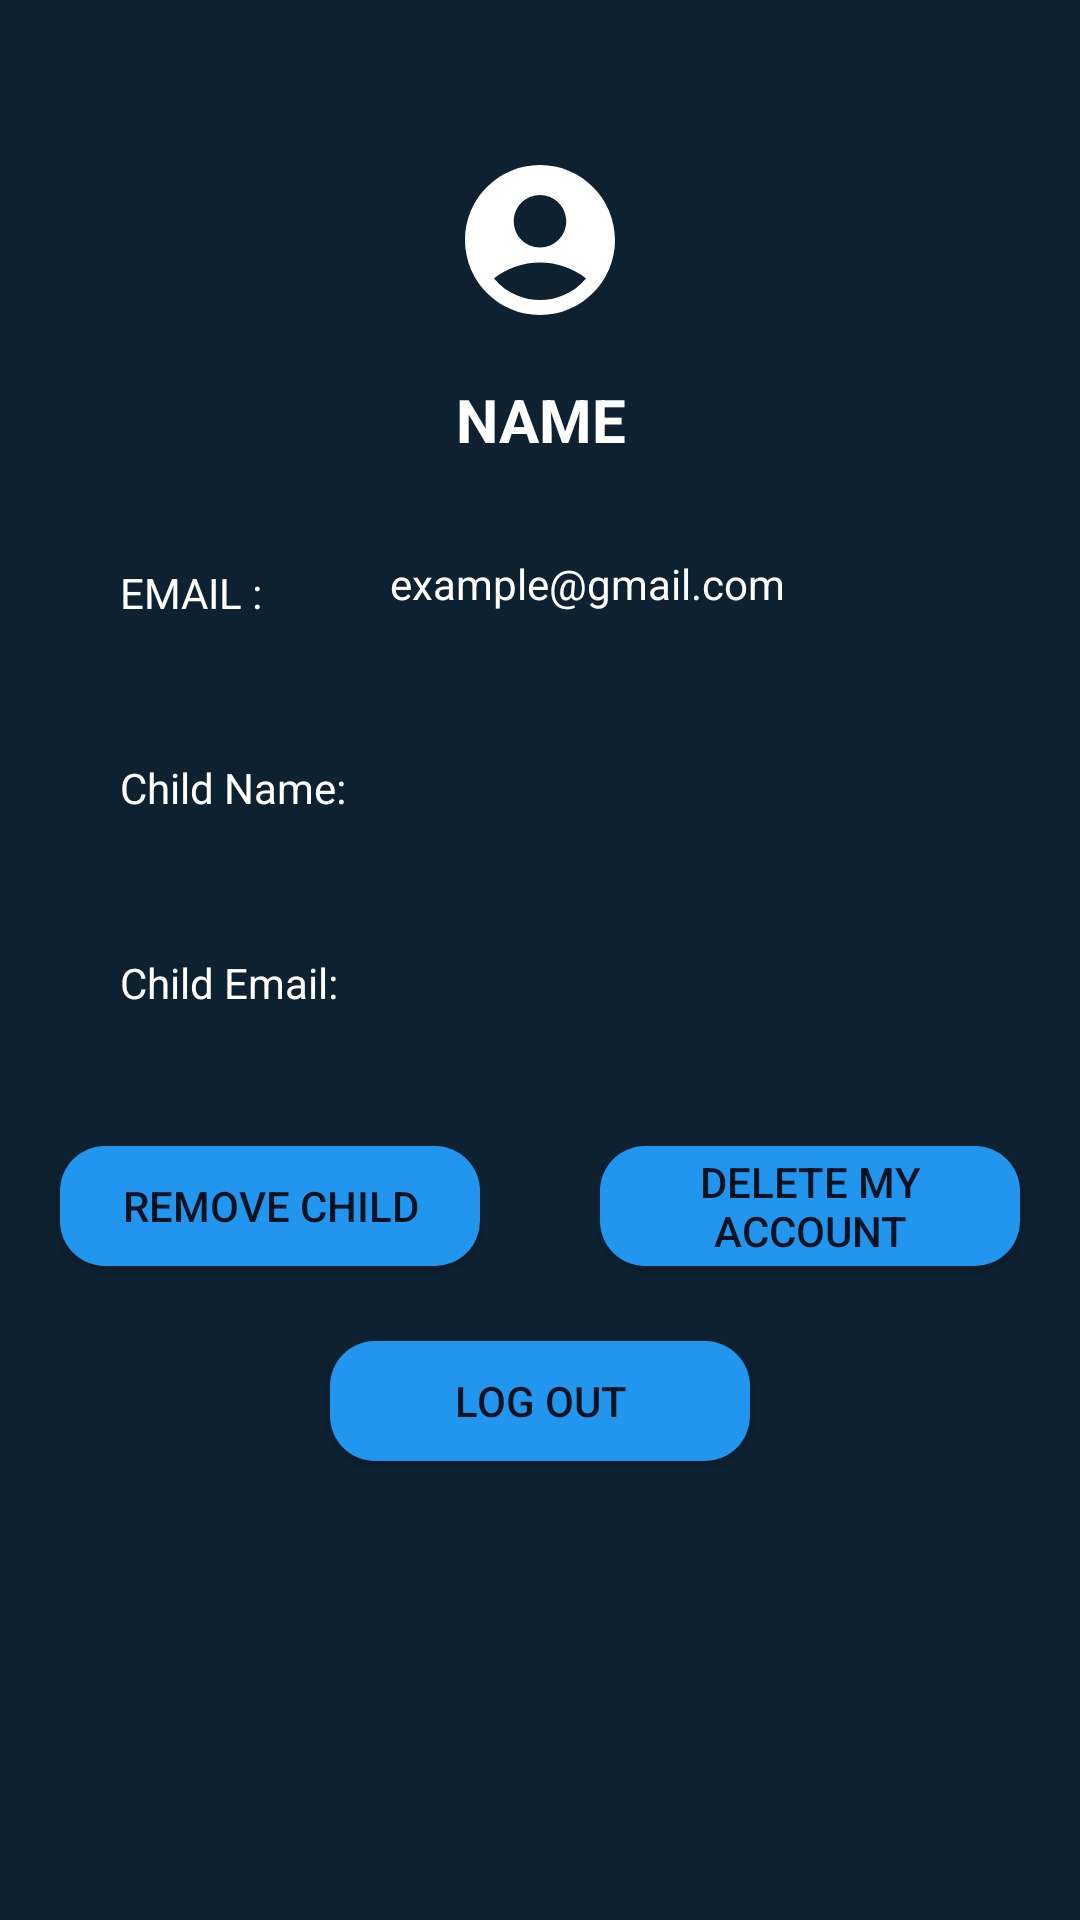

Named icons in this screenshot (1080×1920) and their centers, (x,y):
profile round: (540,240)
